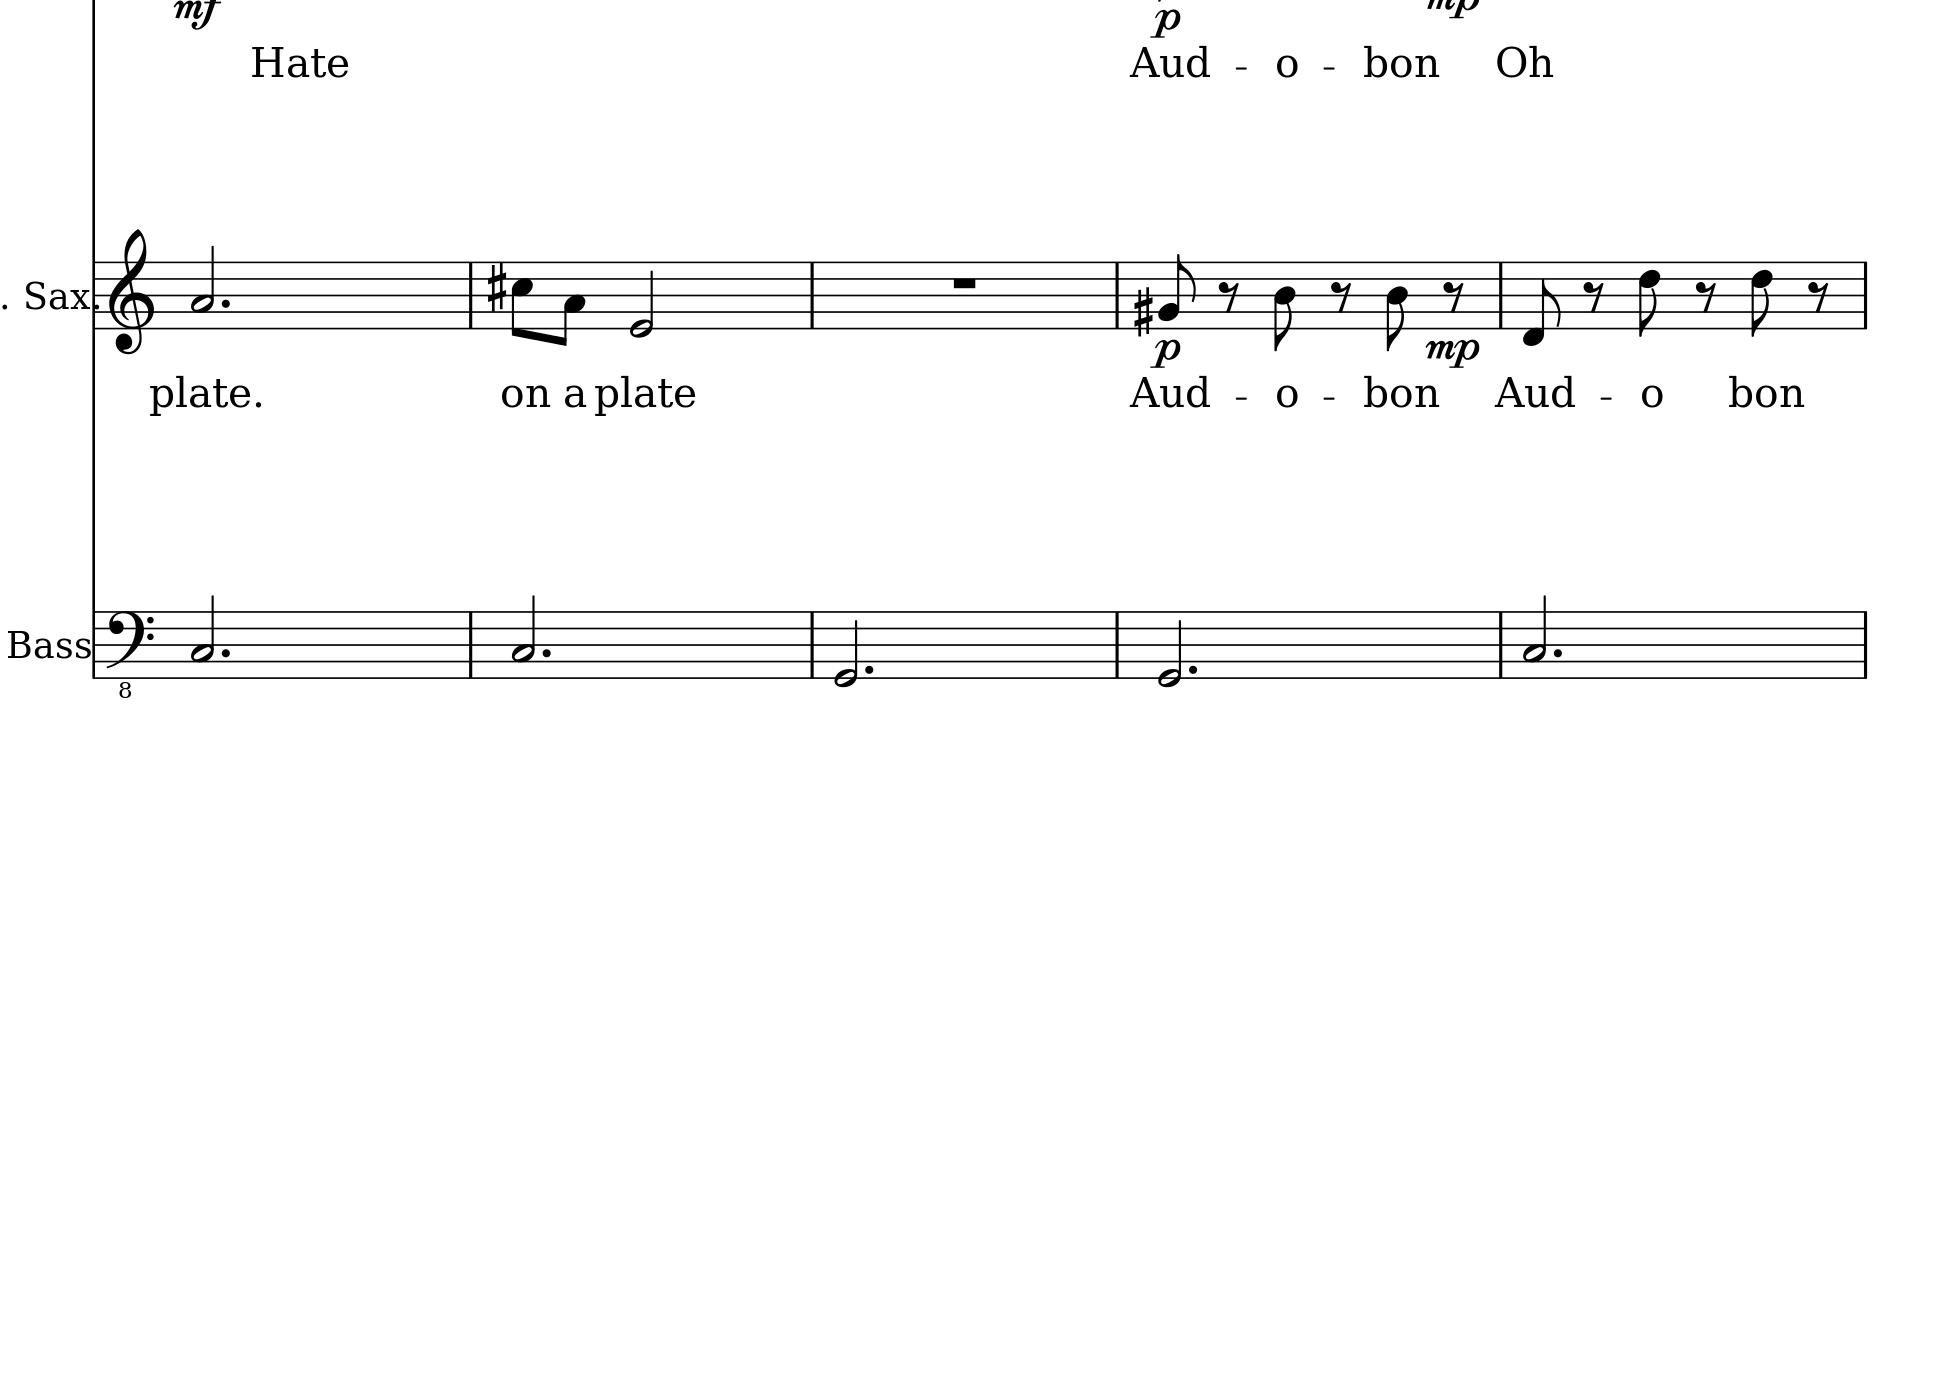2_0: (1156, 607, 1185, 688), (628, 259, 655, 339), (832, 609, 859, 688)
2_3: (190, 243, 216, 331), (190, 594, 216, 679), (511, 594, 537, 679), (1522, 594, 1548, 679)
8_-1: (1524, 259, 1561, 346)
8_2: (1158, 252, 1197, 330)
8_3: (550, 259, 586, 346)
8_4: (1272, 259, 1297, 352), (1384, 259, 1410, 352)
8_5: (508, 259, 534, 340)
8_6: (1749, 259, 1776, 337), (1638, 259, 1662, 337)
Bass: (4, 625, 91, 661)
Gclef: (106, 228, 156, 355)
Lower_Fclef: (103, 607, 154, 700)
Rests1: (949, 274, 981, 292)
Rests8: (1806, 277, 1831, 313), (1441, 279, 1467, 313), (1582, 279, 1608, 313), (1216, 279, 1240, 313), (1329, 279, 1353, 313), (1695, 279, 1719, 313)
Sax: (22, 277, 90, 313)
Sharp: (1131, 283, 1155, 337), (484, 259, 507, 313)
Single_barline: (1855, 610, 1875, 678), (1108, 261, 1126, 328), (1492, 261, 1510, 328), (1857, 261, 1875, 328), (804, 610, 820, 678), (462, 262, 478, 328), (804, 262, 820, 328), (1492, 610, 1509, 676), (462, 612, 478, 678), (88, 262, 103, 330), (1110, 612, 1125, 678), (88, 610, 102, 678)
dot: (1185, 661, 1200, 676), (217, 295, 232, 309), (861, 661, 874, 676), (538, 646, 553, 658), (1551, 646, 1564, 658), (219, 646, 231, 658)
mf: (175, 1, 220, 31)
mp: (1425, 336, 1482, 370)
p: (1152, 7, 1183, 39), (1149, 337, 1180, 369)
